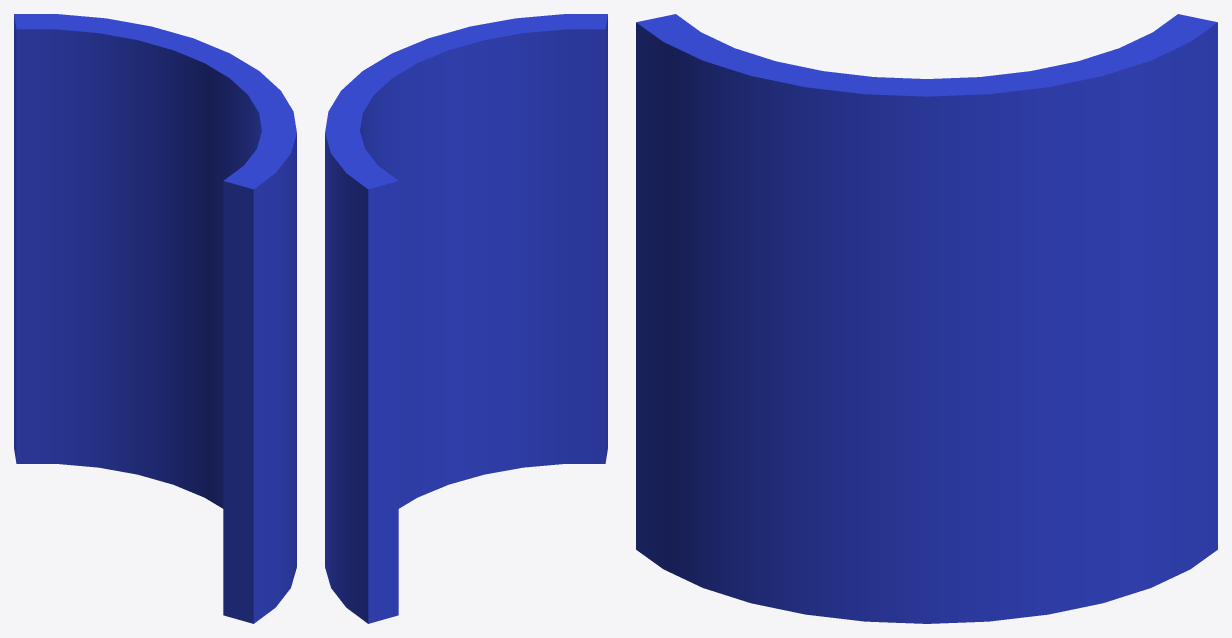
File: ringcircle.fbx
The picture shows the model from 3 angles, left to right: view 1: azimuth 30°, elevation 25°; view 2: azimuth 150°, elevation 25°; view 3: azimuth 270°, elevation 25°; orthographic projection. The views are drawn at different scales.
Visible parts, largest first — view 1: Circle; view 2: Circle; view 3: Circle.
Part boxes in pixels (left/top/right/bottom): Circle: left=14, top=14, right=296, bottom=623; Circle: left=325, top=14, right=607, bottom=623; Circle: left=636, top=14, right=1217, bottom=623.
Size of the model in its own units: 33.59 by 100 by 100.
